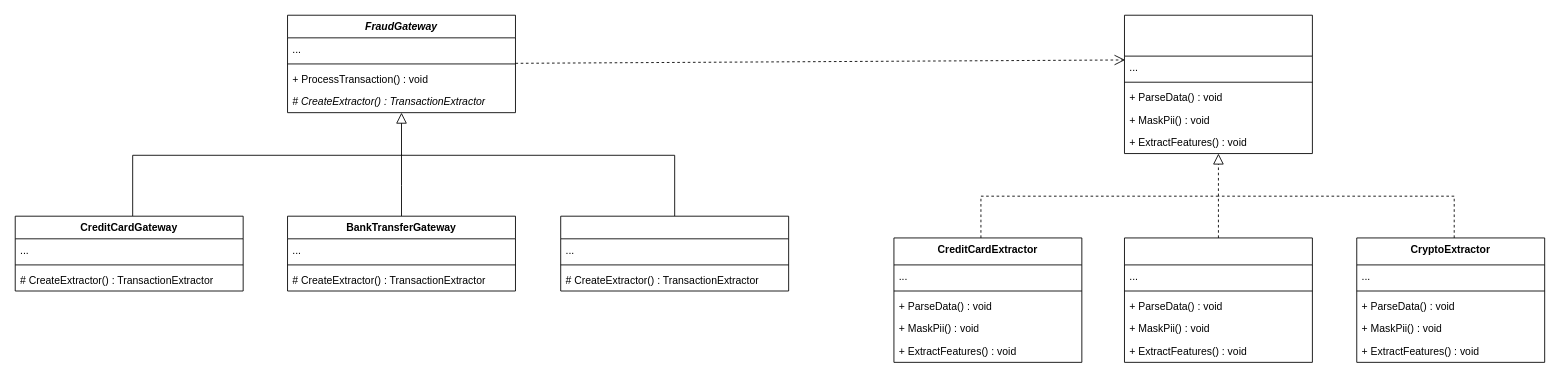
Image size: 1560x380. Some labels were removed from this diagram. The shapes that lost their labels are listed below. From the top down, each one's box as (x1, y1, x2, y2) in pixels, then its label:
(1124, 14, 1312, 154): <<Interface>> TransactionExtractor
(560, 215, 789, 291): CryptoGateway
(1124, 237, 1312, 362): BankTransferExtractor
